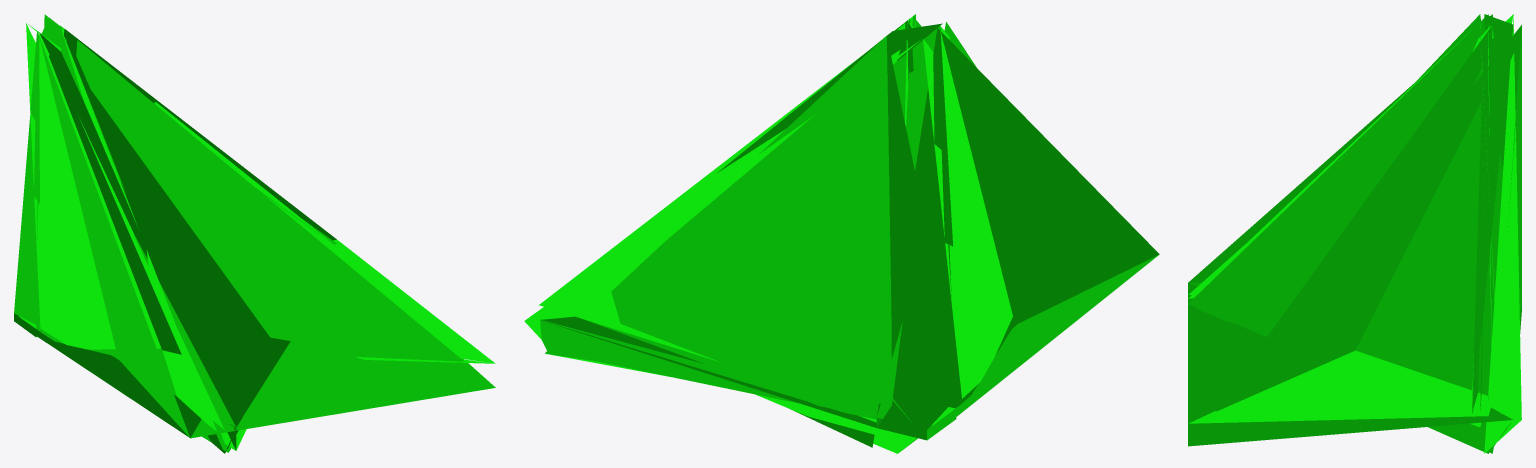
Rendered from tile.fbx.
3 renders of one model, left to right at view 1: azimuth 30°, elevation 25°; view 2: azimuth 150°, elevation 25°; view 3: azimuth 270°, elevation 25°, orthographic. The views are drawn at different scales.
Parts seen in each view (by area): view 1: tile; view 2: tile; view 3: tile.
Part boxes in pixels (bbox=[...]): tile: bbox=[14, 14, 495, 453]; tile: bbox=[524, 14, 1159, 453]; tile: bbox=[1188, 14, 1521, 453].
Size of the model in its own units: 80 by 80 by 80.
